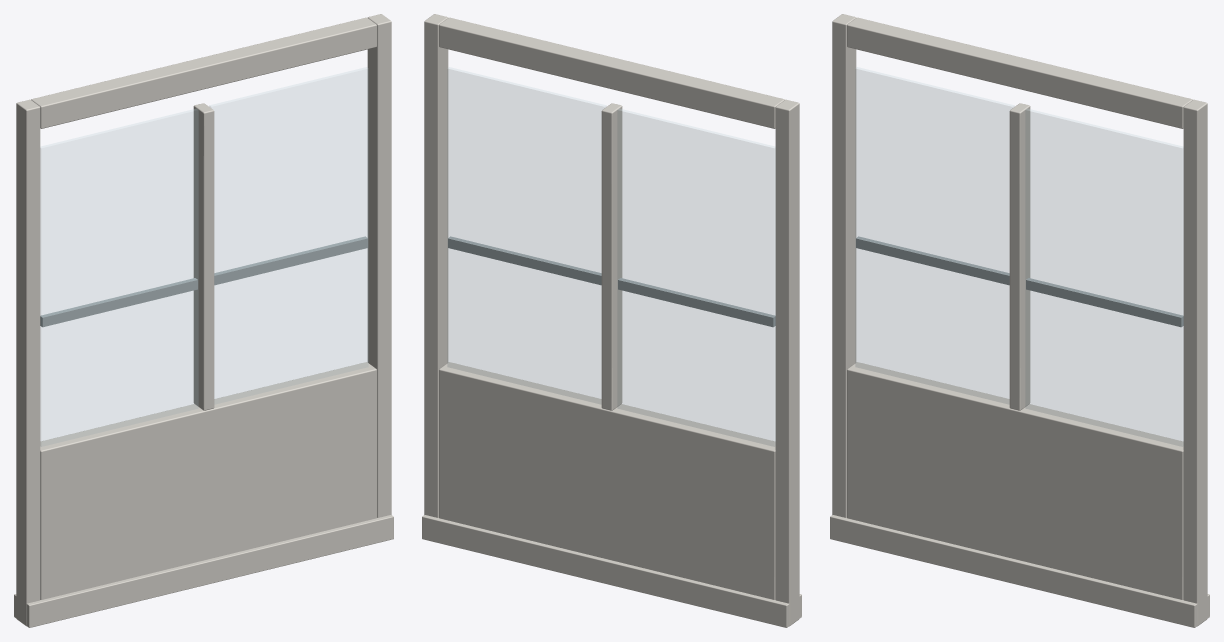
The model's file is glazed-partition-module.glb.
The picture shows the model from 3 angles, left to right: view 1: azimuth 30°, elevation 25°; view 2: azimuth 150°, elevation 25°; view 3: azimuth 330°, elevation 25°; orthographic projection.
Parts seen in each view (by area): view 1: 056-glazed-partition-module/0, 056-glazed-partition-module/1, 056-glazed-partition-module/2; view 2: 056-glazed-partition-module/0, 056-glazed-partition-module/1, 056-glazed-partition-module/2; view 3: 056-glazed-partition-module/0, 056-glazed-partition-module/1, 056-glazed-partition-module/2.
Boxes of the visible parts, x1,y1,x2,y2 form: 056-glazed-partition-module/0: (14, 14, 393, 627); 056-glazed-partition-module/1: (40, 67, 368, 446); 056-glazed-partition-module/2: (40, 236, 367, 327); 056-glazed-partition-module/0: (422, 14, 801, 627); 056-glazed-partition-module/1: (447, 67, 775, 446); 056-glazed-partition-module/2: (448, 236, 775, 327); 056-glazed-partition-module/0: (830, 14, 1209, 627); 056-glazed-partition-module/1: (855, 67, 1183, 446); 056-glazed-partition-module/2: (856, 236, 1183, 327).
Bounding box in the file's own units: 2 × 2.7 × 0.146.
